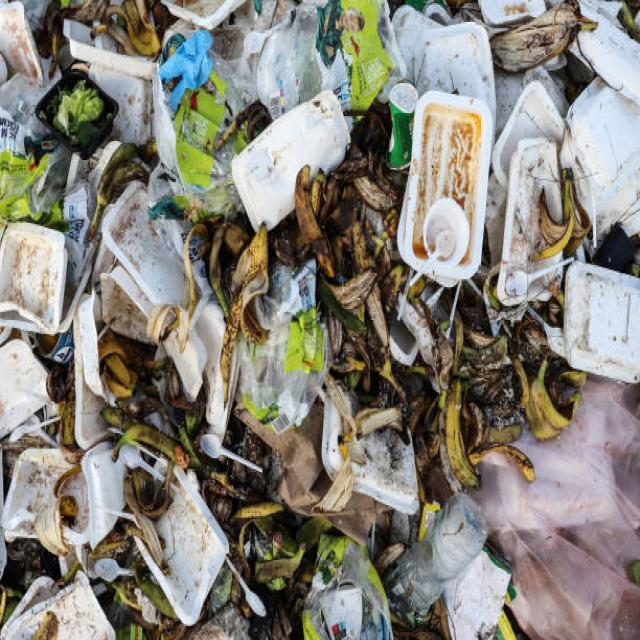trash: (23, 31, 576, 571)
